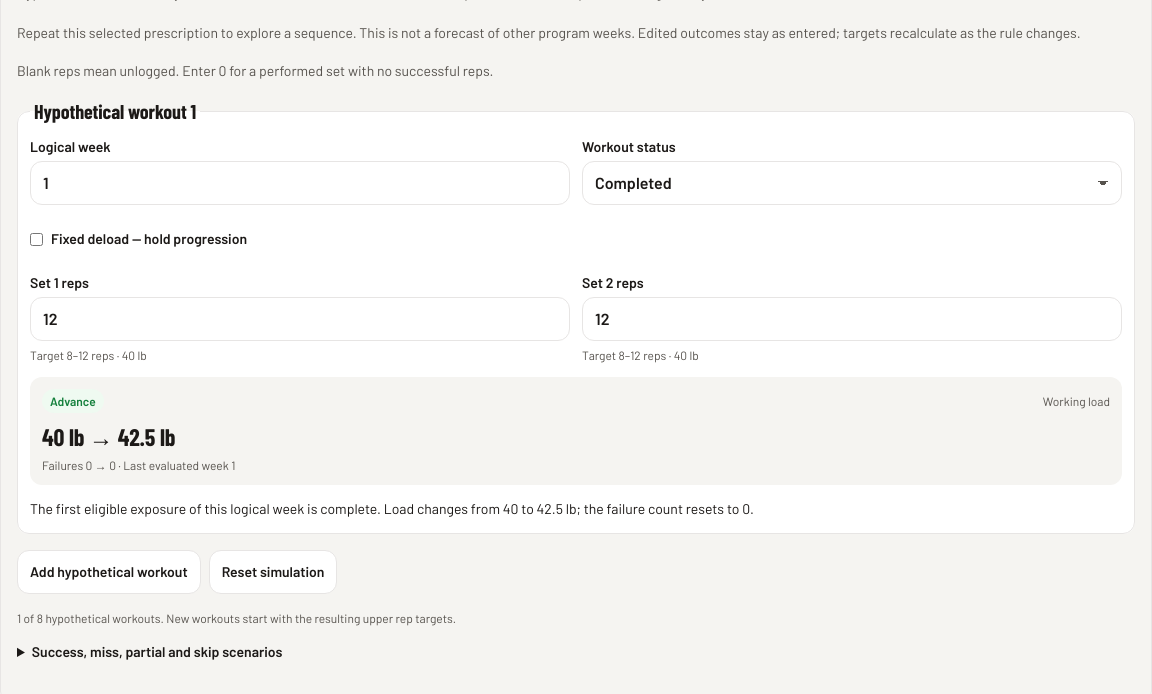
Test: progression authoring › holds repeated trials in the same logical week and gives deload precedence
This screenshot has width=1152, height=694.
(page scrolled)
Click the button "Add hypothetical workout" at point(109, 572), box [17,550,201,594]
(page scrolled)
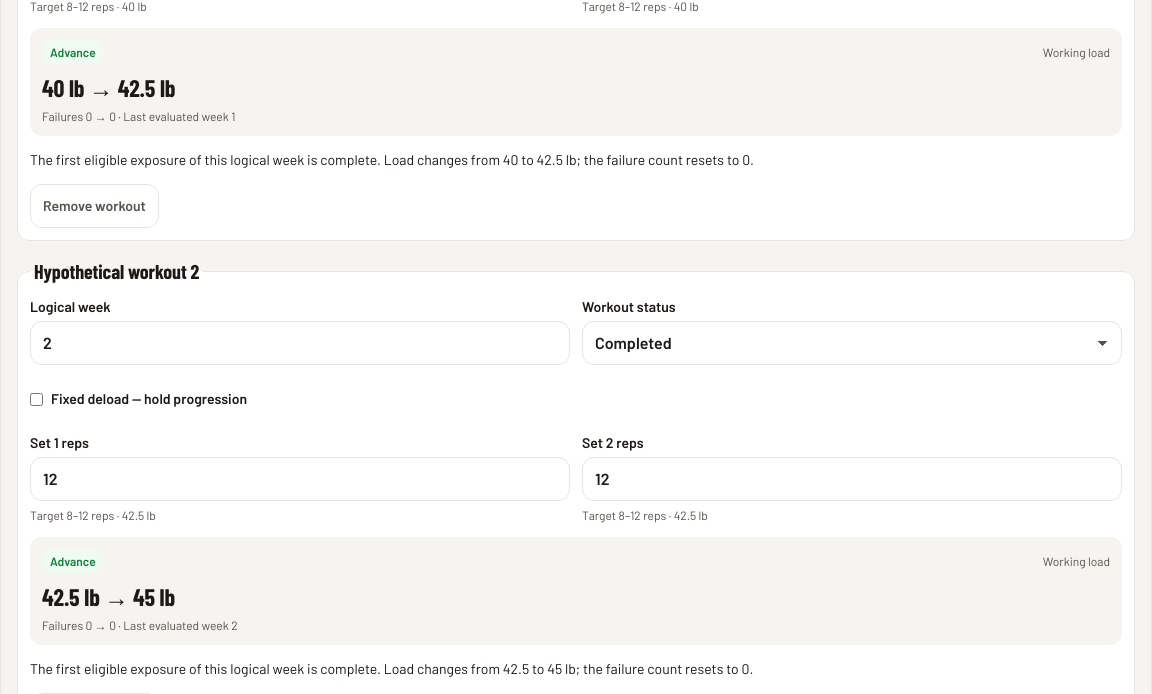
Replace the text in the number field named "Workout 2 logical week" with "1" at point(300, 343), box [30,321,570,365]
(page scrolled)
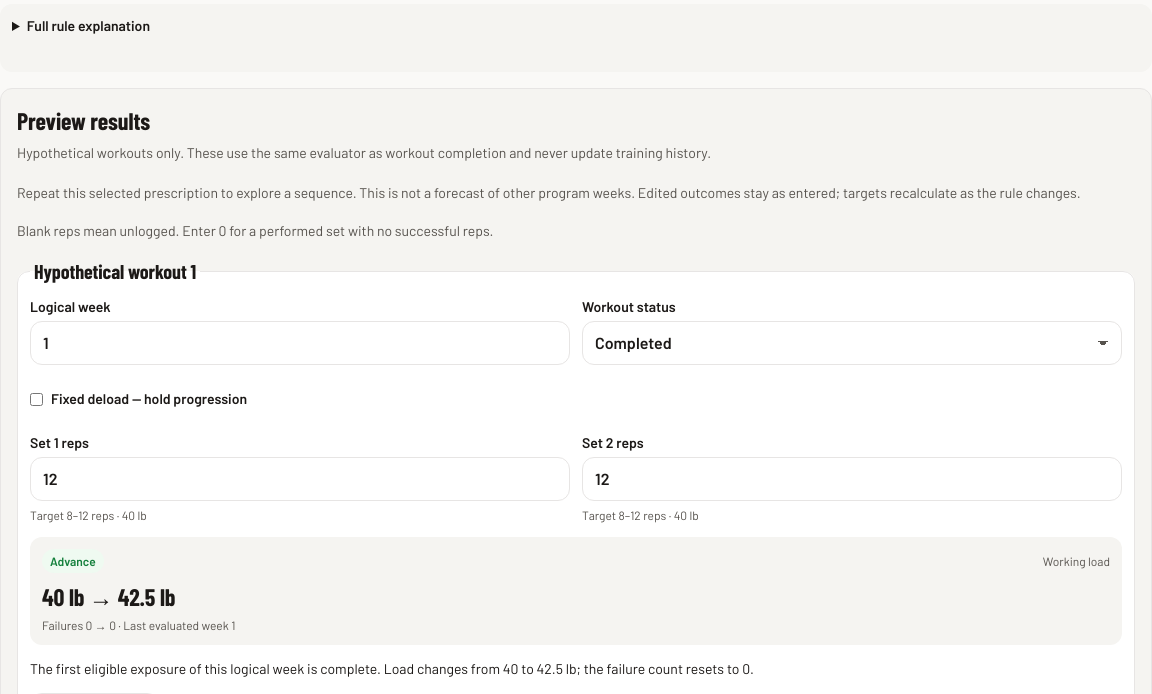
Select "Skipped" in the dropdown named "Workout status (hypothetical)" at point(852, 343), box [582,321,1122,365]
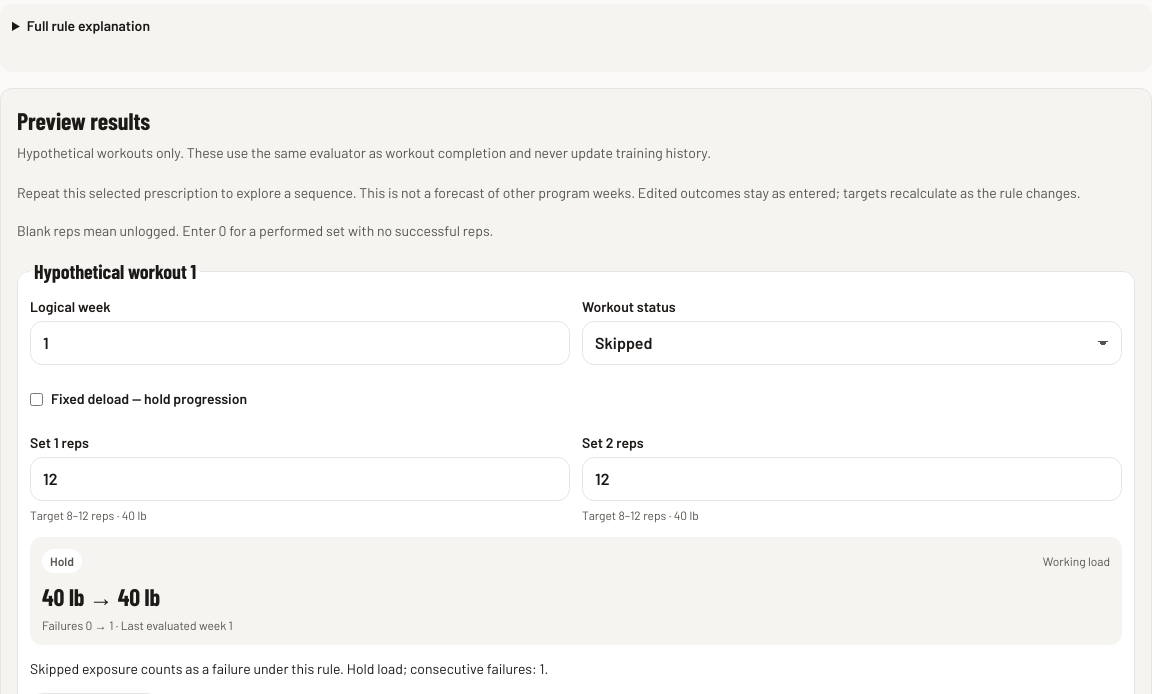
Click the checkbox named "Deload (hypothetical)" at point(36, 399), box [30,392,43,406]
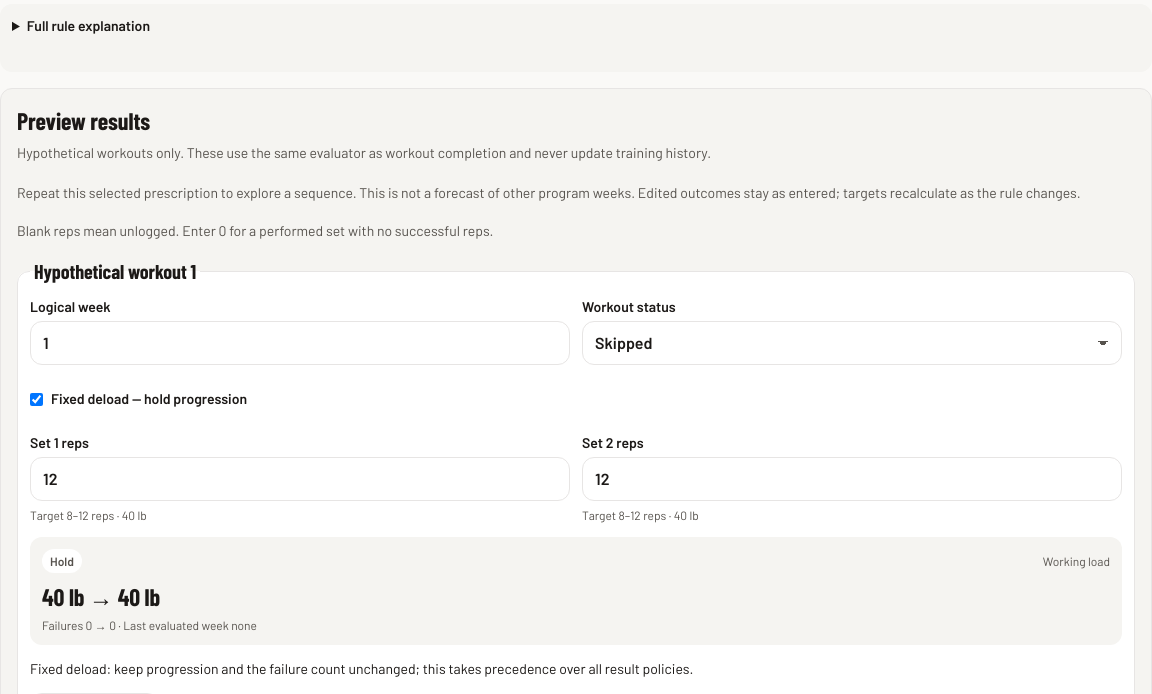
Check: the message named "Progression preview result" shows "Fixed deload", box [30,660,693,677]
